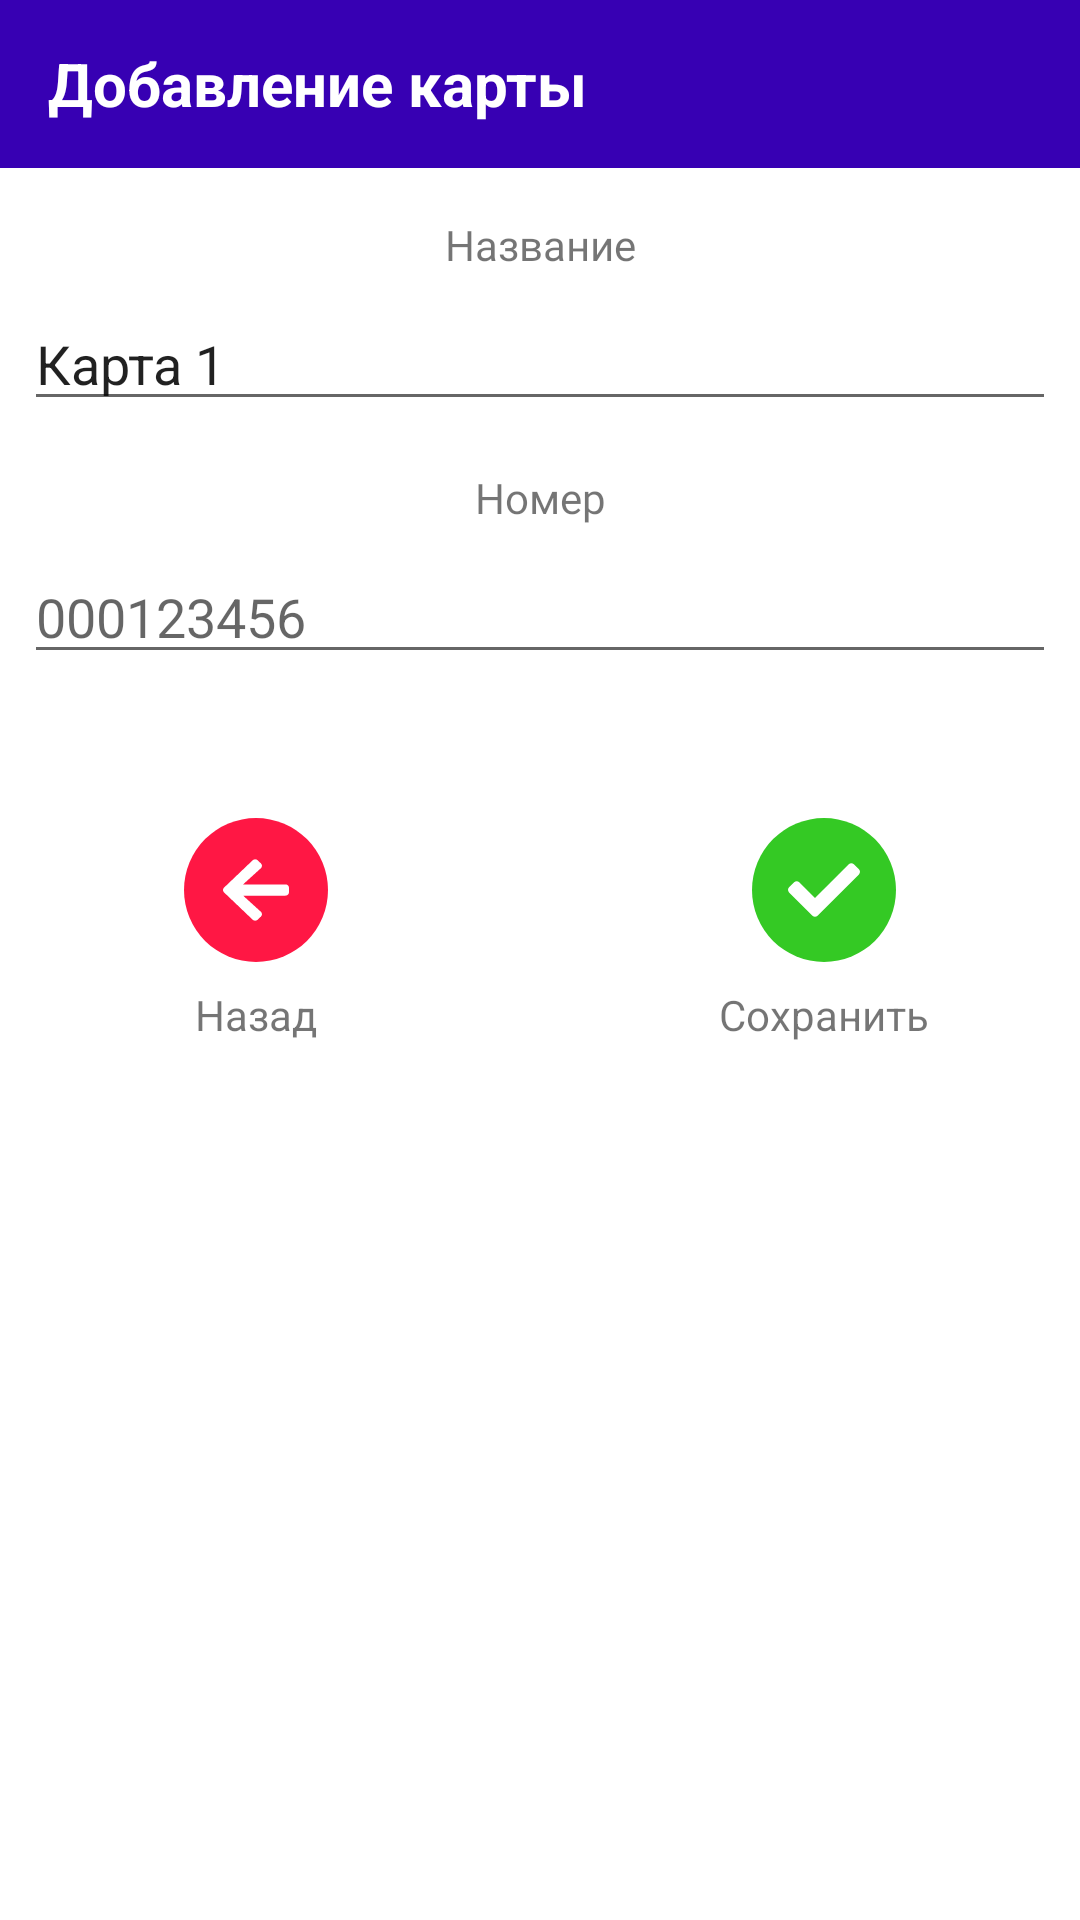

Locate icon controls on the screen. Image size 1080*1920, boxes as (left=x1, top=y1, right=x2, bottom=y2).
check: (left=752, top=818, right=896, bottom=962)
